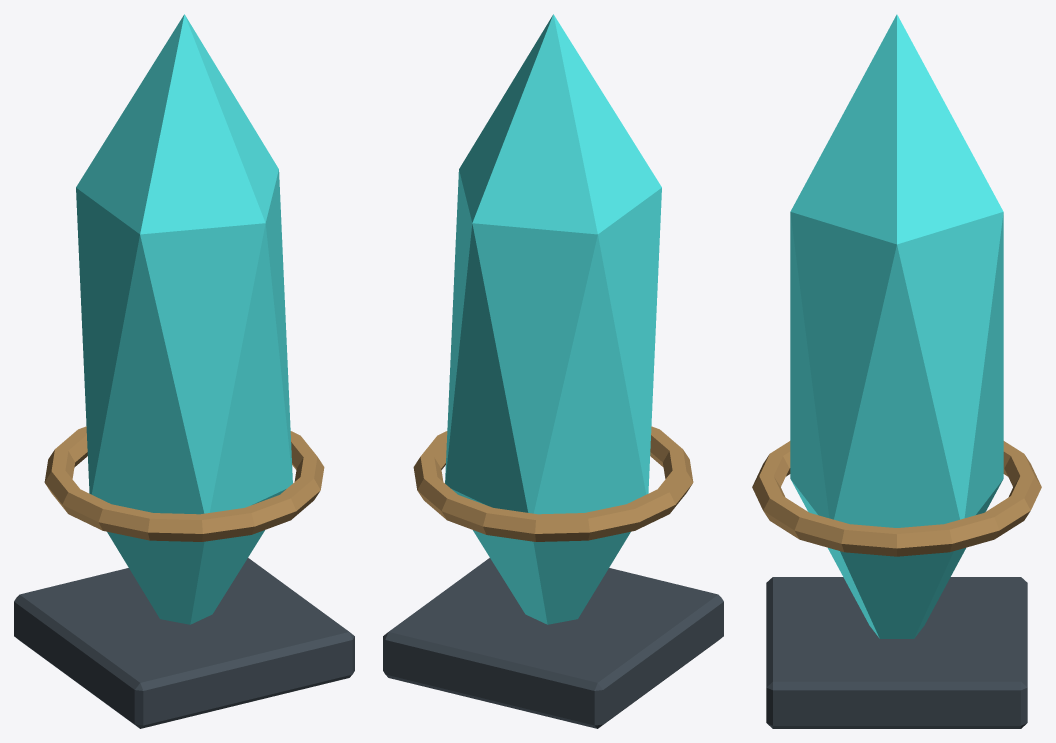
Rendered from SH10_L10_CorePrism.fbx.
3 views of the same model, side by side, from view 1: azimuth 30°, elevation 25°; view 2: azimuth 150°, elevation 25°; view 3: azimuth 270°, elevation 25° (orthographic). The views are drawn at different scales.
Visible parts, largest first — view 1: SH10_L10_CorePrism; view 2: SH10_L10_CorePrism; view 3: SH10_L10_CorePrism.
Part boxes in pixels (x1,y1,x2,y2): SH10_L10_CorePrism: [14, 14, 354, 728]; SH10_L10_CorePrism: [383, 14, 723, 728]; SH10_L10_CorePrism: [752, 14, 1041, 728].
Size of the model in its own units: 111 by 280 by 111.
